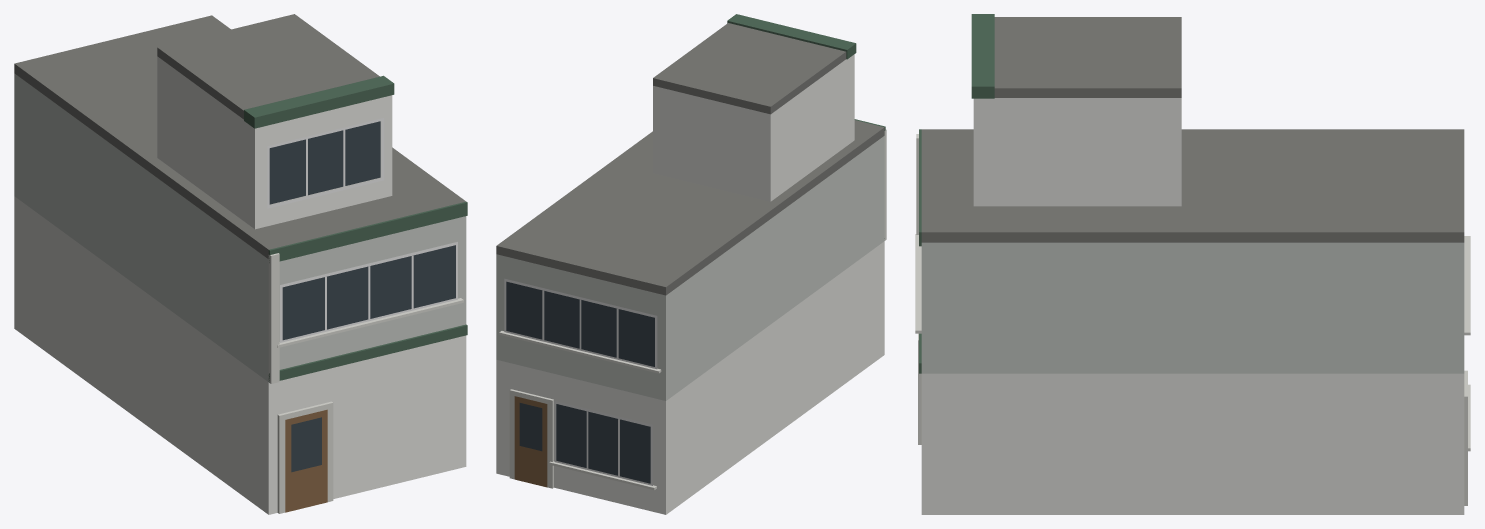
Rendered from zo-ko-patio-top__green__2__flat__long__solid.glb.
3 renders of one model, left to right at view 1: azimuth 30°, elevation 25°; view 2: azimuth 150°, elevation 25°; view 3: azimuth 270°, elevation 25°, orthographic. The views are drawn at different scales.
Visible parts, largest first — view 1: zo-ko-patio-top__green__2__flat__long__solid; view 2: zo-ko-patio-top__green__2__flat__long__solid; view 3: zo-ko-patio-top__green__2__flat__long__solid.
Part boxes in pixels (<box>): zo-ko-patio-top__green__2__flat__long__solid: <box>14,14,467,514</box>; zo-ko-patio-top__green__2__flat__long__solid: <box>496,14,886,514</box>; zo-ko-patio-top__green__2__flat__long__solid: <box>915,14,1470,514</box>.
Size of the model in its own units: 4.68 by 8.55 by 10.67.
